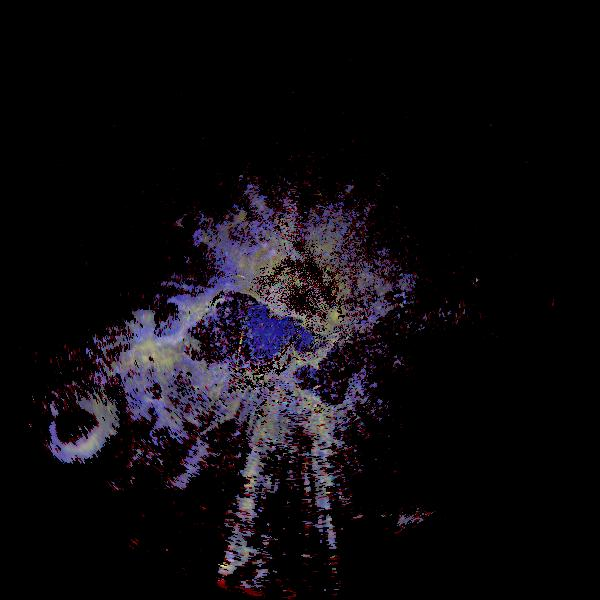roost: (12, 359, 144, 491)
